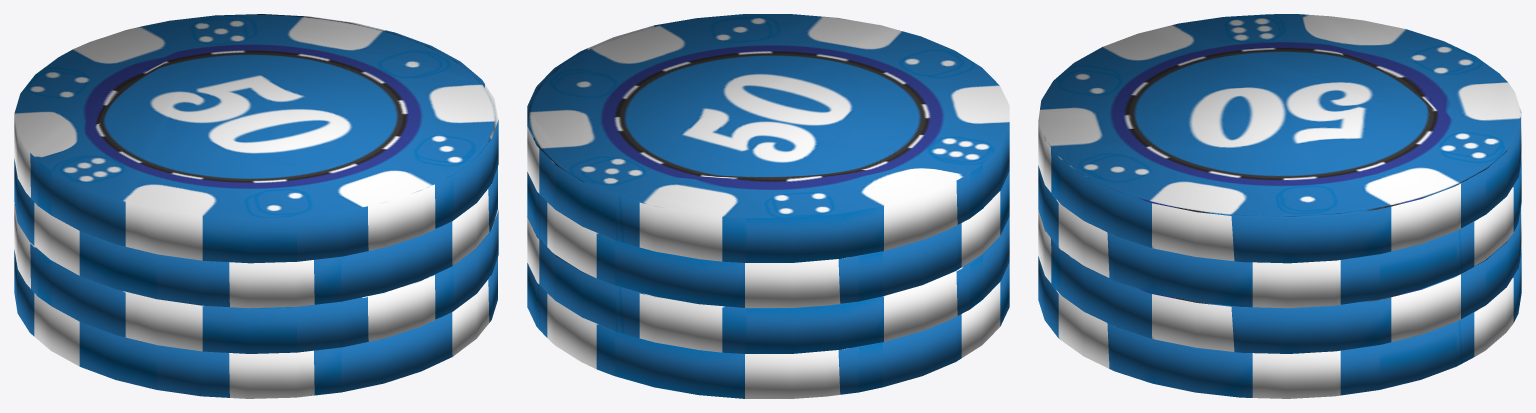
Rendered from WithdrawMoney_500.fbx.
3 views of the same model, side by side, from view 1: azimuth 30°, elevation 25°; view 2: azimuth 150°, elevation 25°; view 3: azimuth 270°, elevation 25° (orthographic).
Visible parts, largest first — view 1: Cylinder.022; view 2: Cylinder.022; view 3: Cylinder.022.
Boxes of the visible parts, <box> form: Cylinder.022: <box>14,14,498,398</box>; Cylinder.022: <box>527,14,1009,398</box>; Cylinder.022: <box>1038,14,1521,398</box>.
Bounding box in the file's own units: 14.41 × 5.94 × 14.4.
